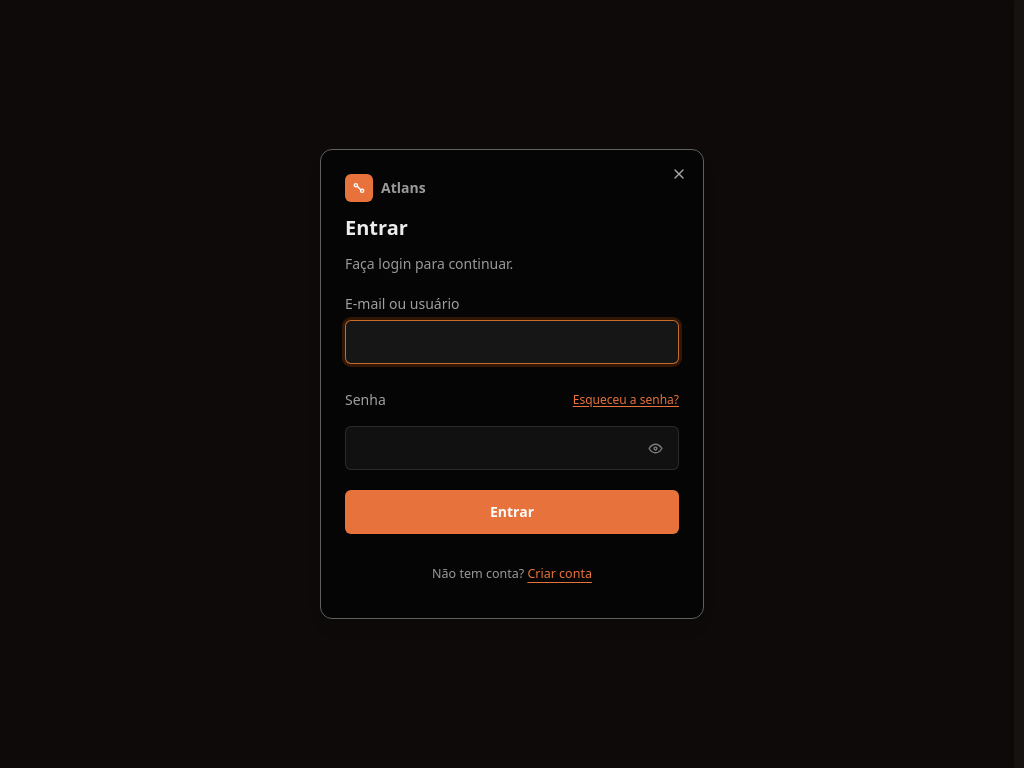
ModalDeEntrada — entrar › 429: conta travada, o botão desabilita
In the field labelled "E-mail ou usuário": (512, 342) [345,320,679,364], type "fulana"
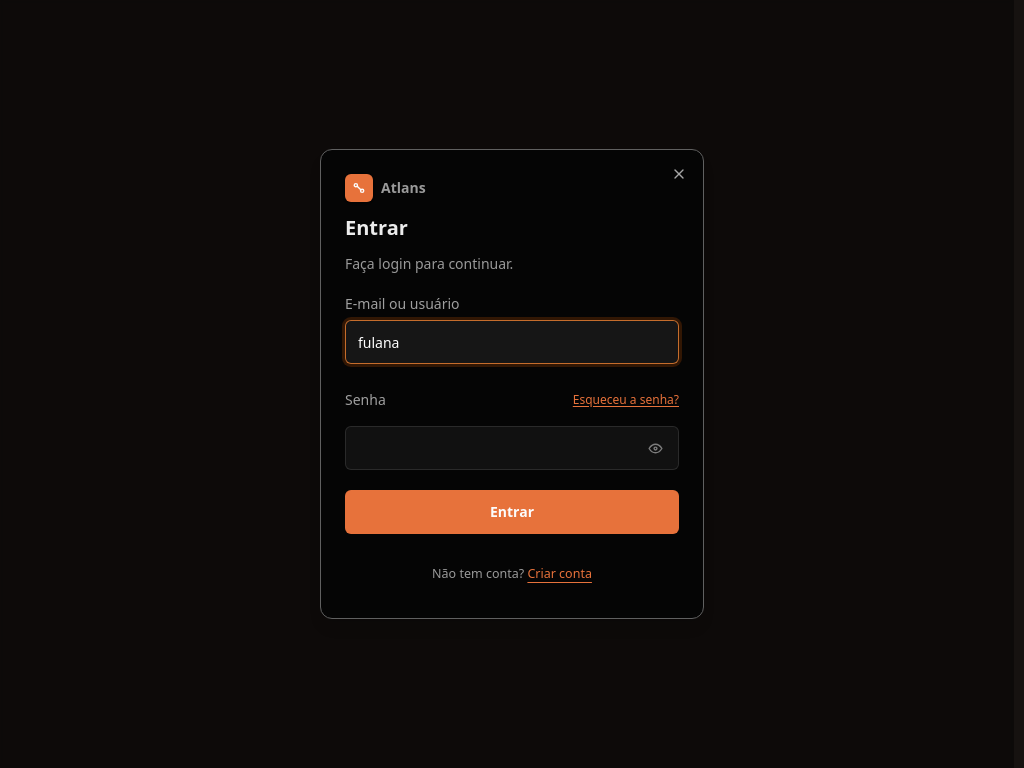
In the password field labelled "Senha": (512, 448) [345,426,679,470], type "x"
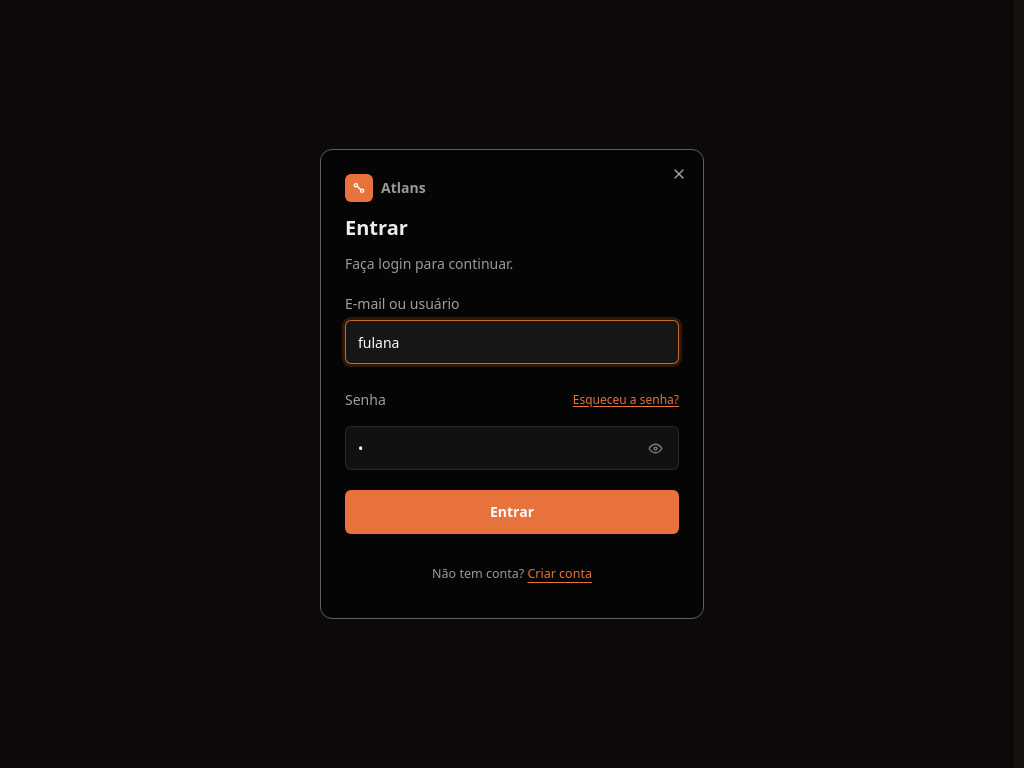
Submit the form labelled "E-mail ou usuário Senha Esqueceu a senha? Entrar", box [345,294,679,534]
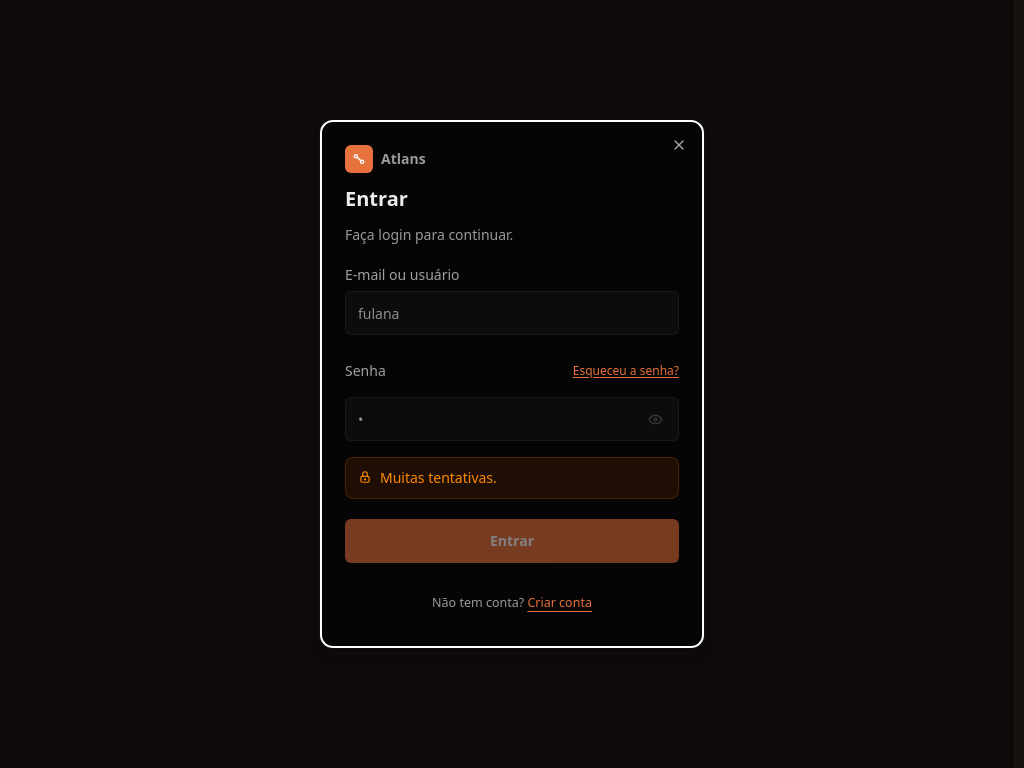
Expected: the message reads "Muitas tentativas.", [380,468,497,487]
Expected: the button "Entrar" is disabled, [345,519,679,563]
